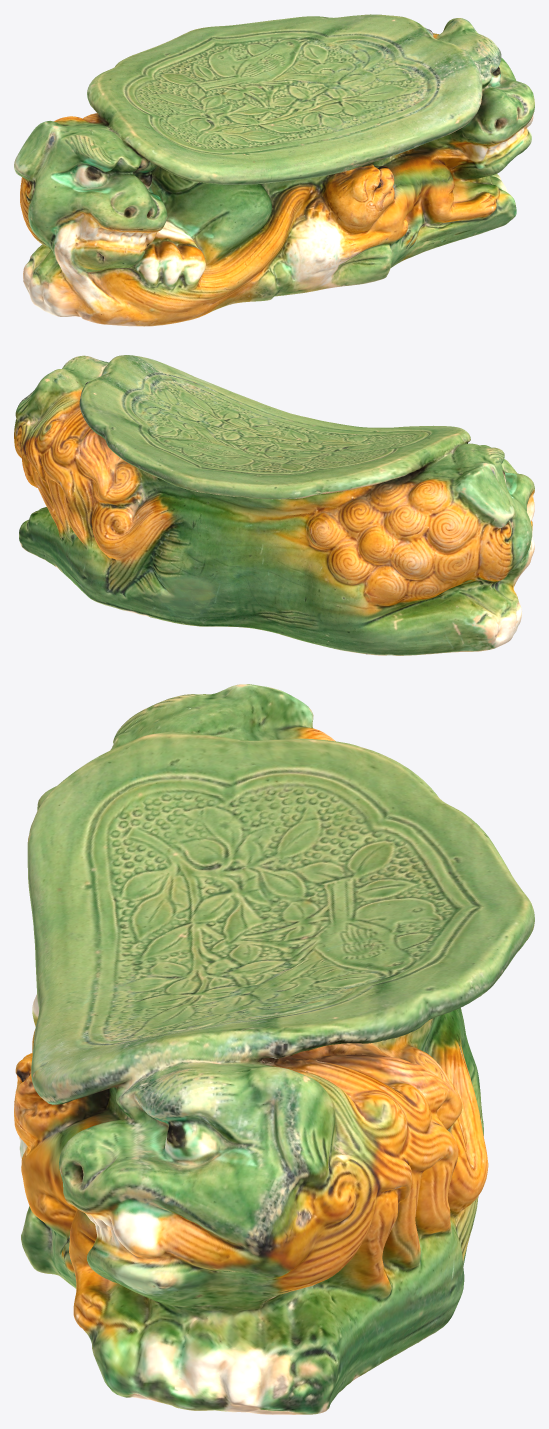
The model's file is headrest-three-lions-balanced.glb.
3 views of the same model, one above another, from view 1: azimuth 30°, elevation 25°; view 2: azimuth 150°, elevation 25°; view 3: azimuth 270°, elevation 25° (orthographic). The views are drawn at different scales.
Visible parts, largest first — view 1: Object_2; view 2: Object_2; view 3: Object_2.
Boxes of the visible parts, x1,y1,x2,y2 form: Object_2: [14, 14, 534, 326]; Object_2: [14, 355, 534, 655]; Object_2: [14, 684, 534, 1414].
Size of the model in its own units: 77.99 by 27.62 by 37.89.
1 material, 1 textured.
